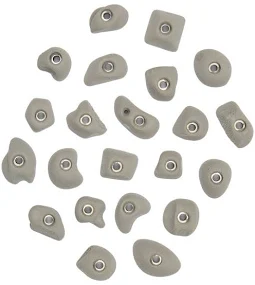hold: (115, 95, 158, 137), (215, 101, 252, 147), (132, 238, 178, 275), (144, 9, 184, 51), (0, 136, 34, 183), (114, 191, 150, 232), (82, 52, 126, 85), (192, 47, 229, 85), (64, 101, 104, 136), (76, 243, 114, 279), (48, 148, 82, 188), (161, 198, 197, 235), (27, 204, 63, 240), (198, 158, 229, 197), (173, 104, 206, 139), (37, 45, 70, 79), (144, 66, 176, 101), (100, 148, 135, 178), (91, 3, 127, 31), (24, 96, 52, 131), (74, 194, 102, 226), (153, 150, 178, 176)
